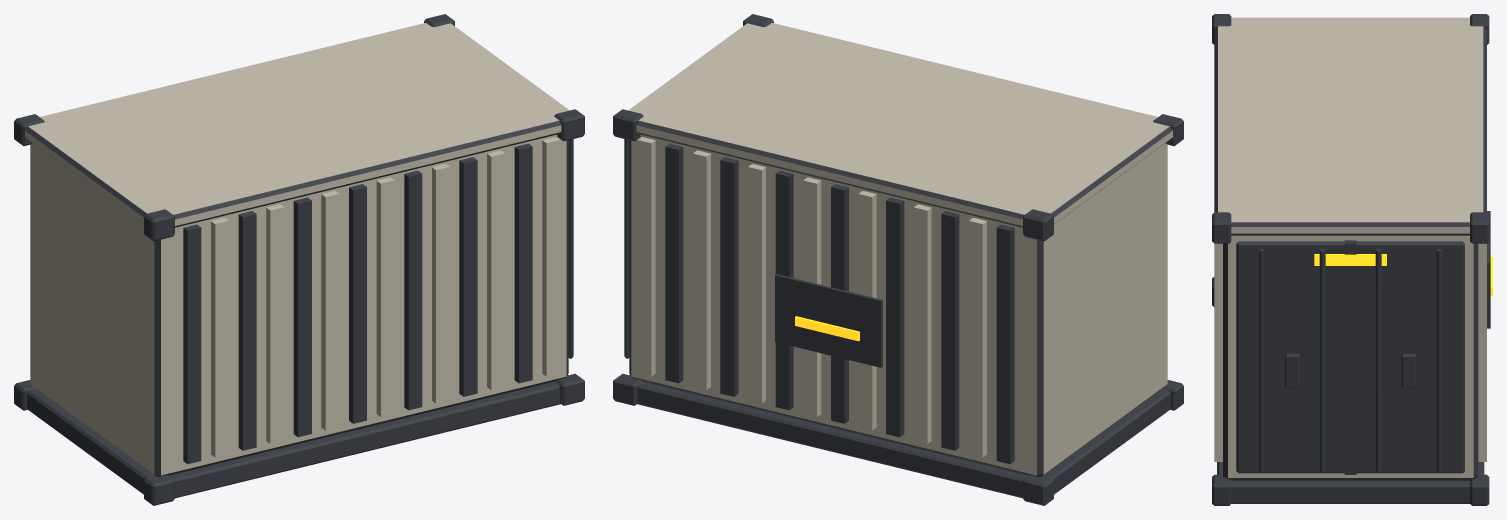
File: cargo_crate.glb
3 views of the same model, side by side, from view 1: azimuth 30°, elevation 25°; view 2: azimuth 150°, elevation 25°; view 3: azimuth 270°, elevation 25° (orthographic).
Parts seen in each view (by area): view 1: cargo_crate; view 2: cargo_crate; view 3: cargo_crate.
Part boxes in pixels (x1,y1,x2,y2): cargo_crate: [14, 14, 584, 505]; cargo_crate: [613, 14, 1183, 505]; cargo_crate: [1212, 14, 1492, 505].
Bounding box in the file's own units: 4.14 × 2.58 × 2.31.
